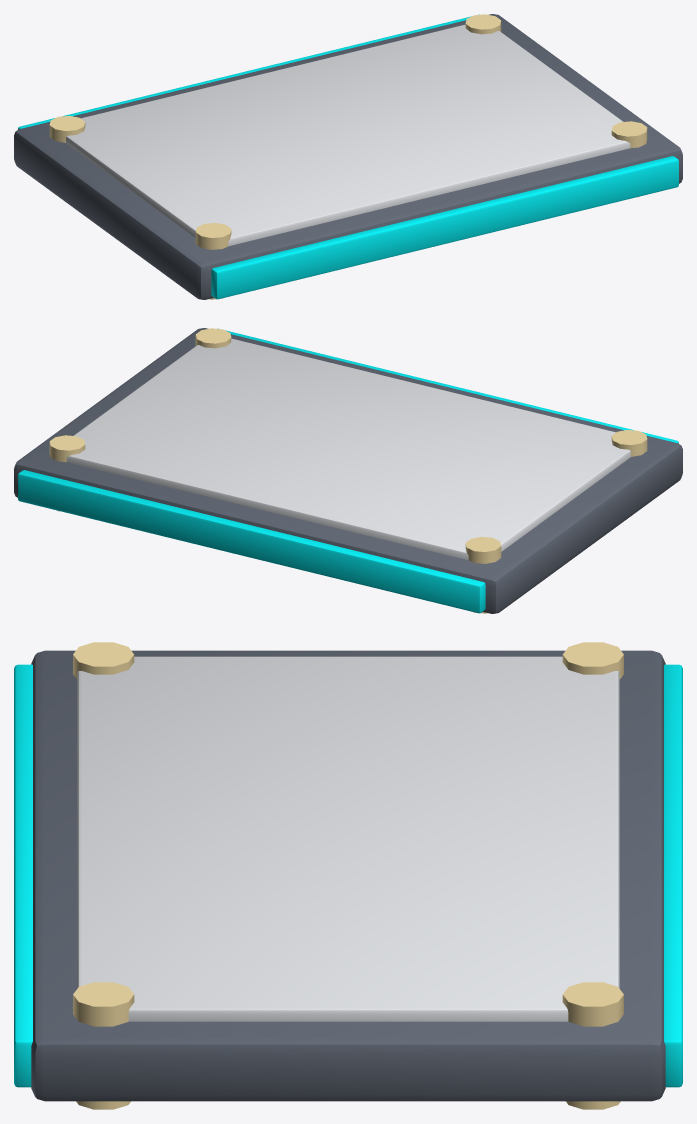
The model's file is clock_mirror.glb.
3 views of the same model, one above another, from view 1: azimuth 30°, elevation 25°; view 2: azimuth 150°, elevation 25°; view 3: azimuth 270°, elevation 25° (orthographic). The views are drawn at different scales.
Visible parts, largest first — view 1: Cube; view 2: Cube; view 3: Cube.
Boxes of the visible parts, left/top/right/bottom form: Cube: left=14, top=14, right=682, bottom=299; Cube: left=14, top=328, right=682, bottom=613; Cube: left=14, top=642, right=682, bottom=1109.
Bounding box in the file's own units: 2.15 × 0.26 × 1.53.
